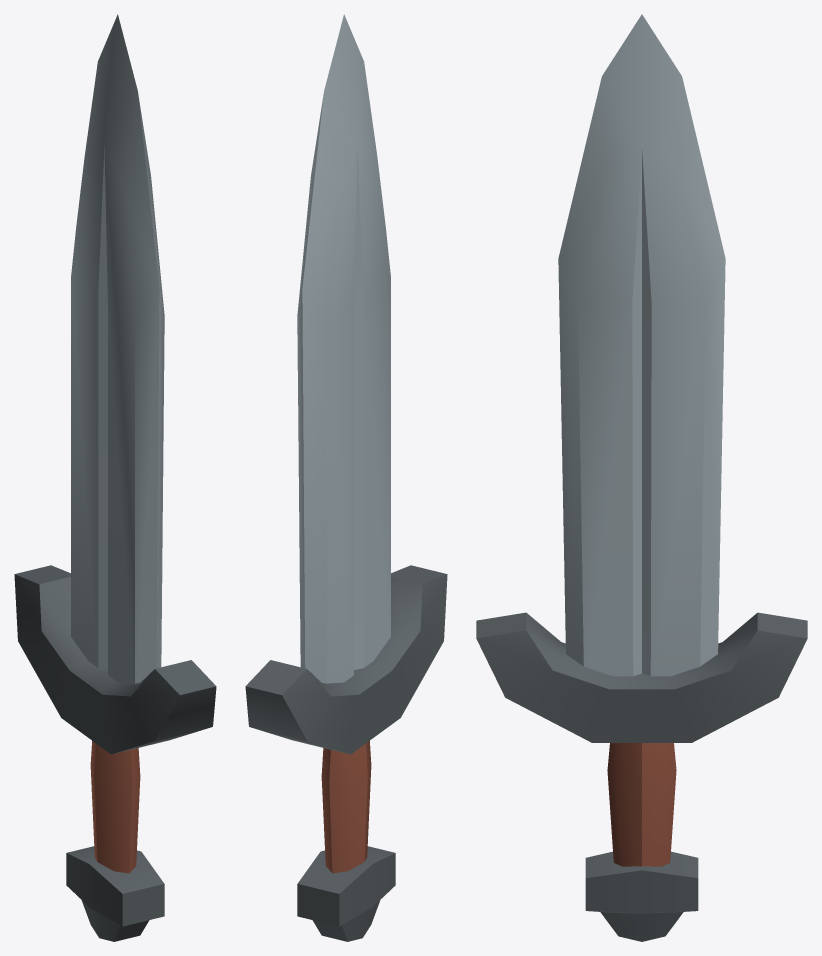
Rendered from iron_sword.gltf.glb.
The picture shows the model from 3 angles, left to right: view 1: azimuth 30°, elevation 25°; view 2: azimuth 150°, elevation 25°; view 3: azimuth 270°, elevation 25°; orthographic projection.
Parts seen in each view (by area): view 1: iron_sword; view 2: iron_sword; view 3: iron_sword.
Part boxes in pixels (x1=…): iron_sword: x1=14, y1=14, x2=216, y2=941; iron_sword: x1=245, y1=14, x2=447, y2=941; iron_sword: x1=476, y1=14, x2=807, y2=941.
Bounding box in the file's own units: 0.0716 × 1.07 × 0.3504.
